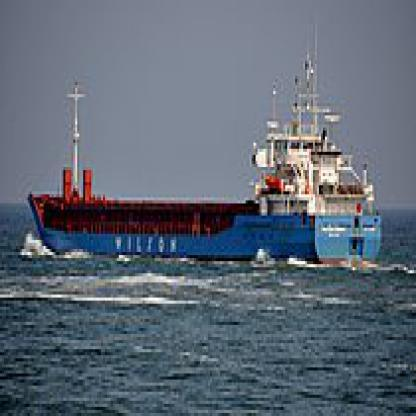Container Ship: (26, 22, 383, 266)
